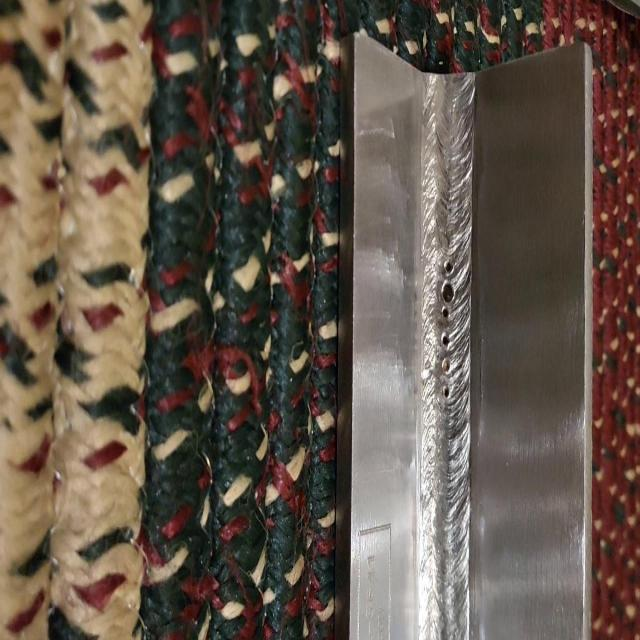Welding Line: (419, 79, 475, 640)
Workpiece: (344, 37, 587, 640)
porosity: (439, 258, 455, 400)
